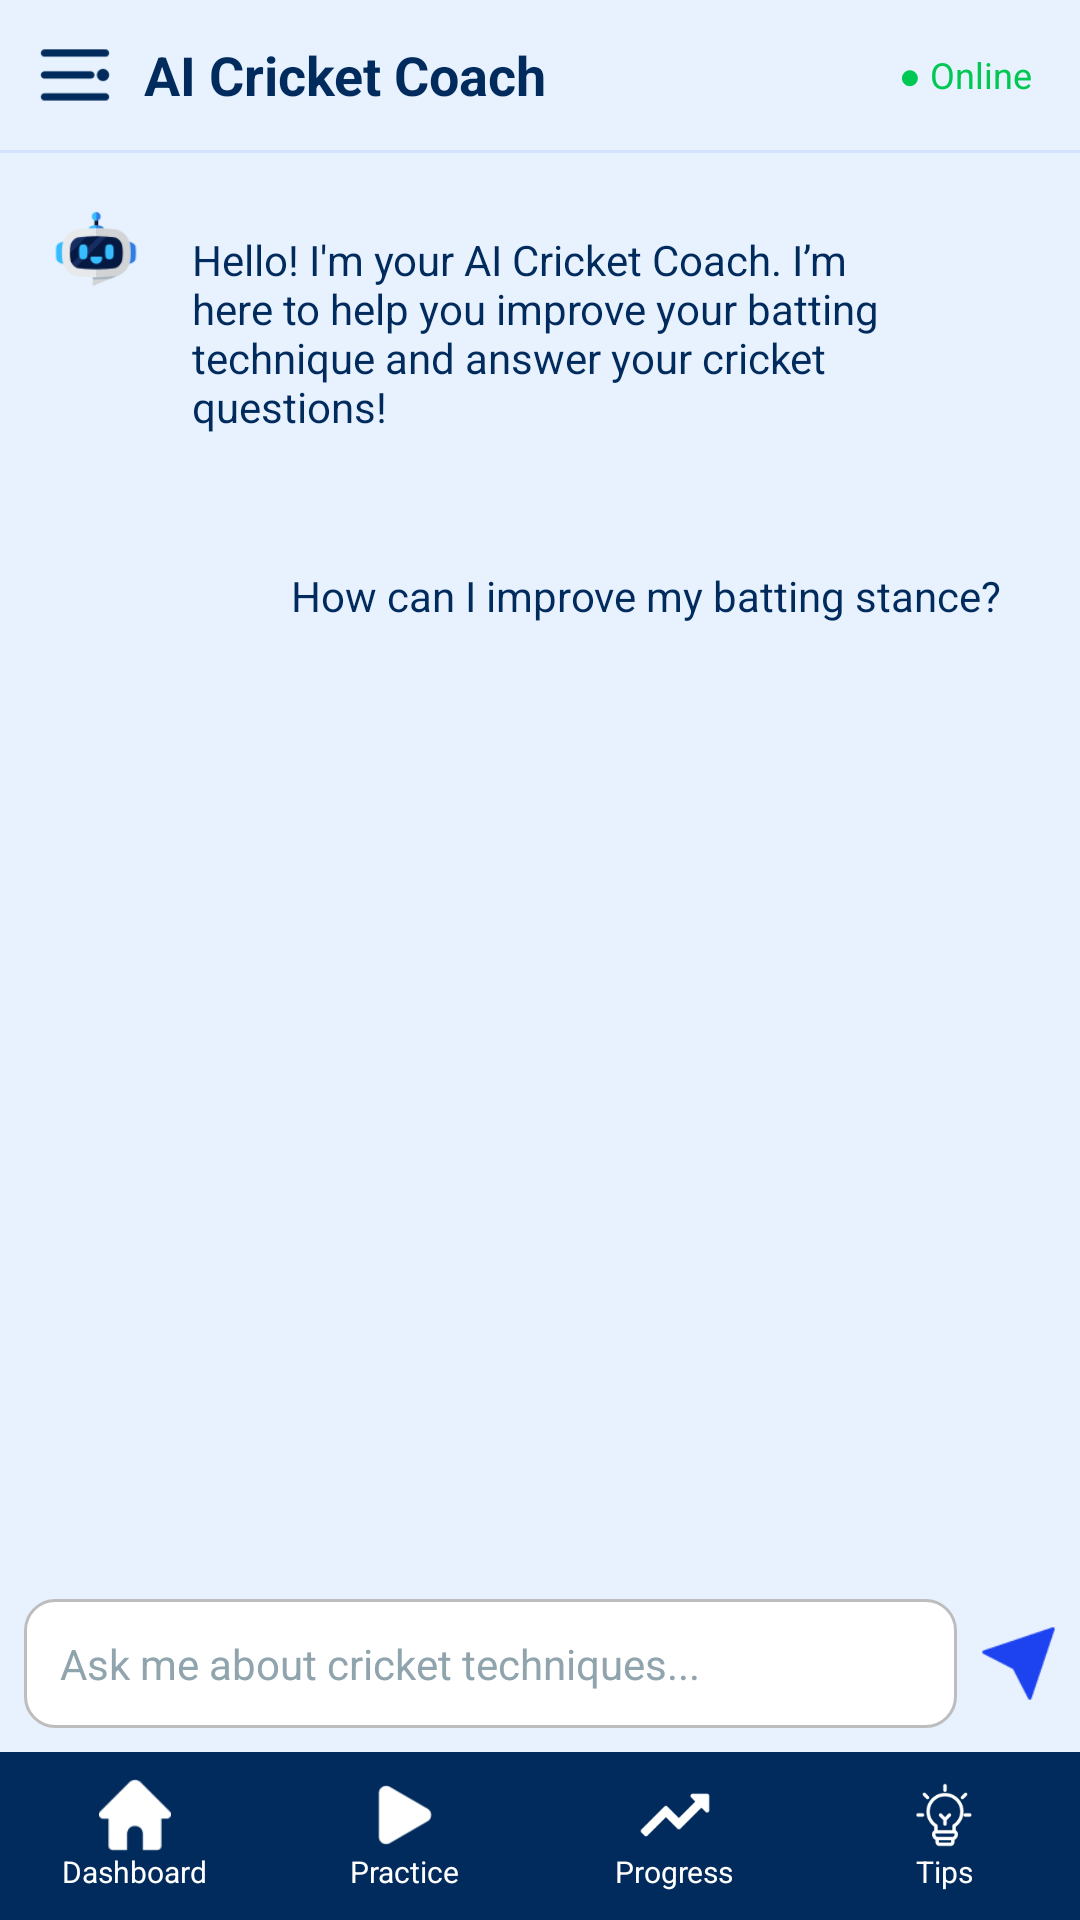

Named icons in this screenshot (1080px x 1920px) and their centers, [x,y]:
bot: [96,248]
home: [135,1815]
menu: [75,75]
send: [1018,1663]
